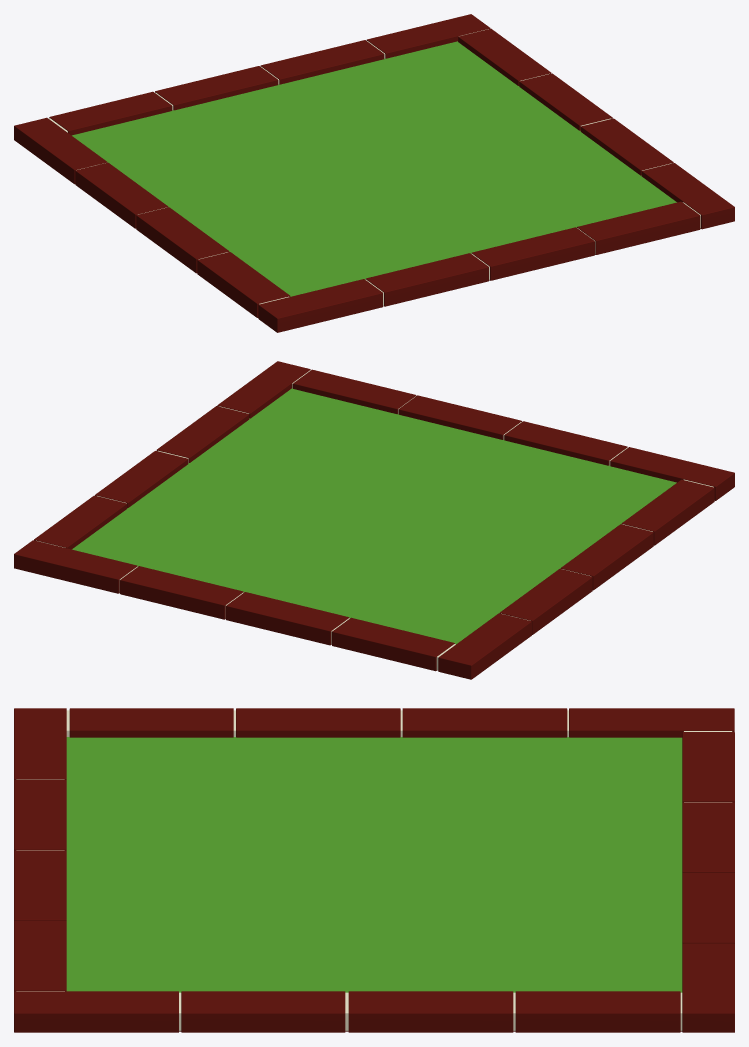
File: outdoor_grass_1274.obj
3 views of the same model, one above another, from view 1: azimuth 30°, elevation 25°; view 2: azimuth 150°, elevation 25°; view 3: azimuth 270°, elevation 25° (orthographic). The views are drawn at different scales.
Visible parts, largest first — view 1: outdoor_grass_1274_grassland, outdoor_grass_1274_brick, outdoor_grass_1274_cream; view 2: outdoor_grass_1274_grassland, outdoor_grass_1274_brick, outdoor_grass_1274_cream; view 3: outdoor_grass_1274_grassland, outdoor_grass_1274_brick, outdoor_grass_1274_cream.
Part boxes in pixels (bbox=[...]): outdoor_grass_1274_grassland: bbox=[72, 41, 676, 296]; outdoor_grass_1274_brick: bbox=[14, 14, 734, 332]; outdoor_grass_1274_cream: bbox=[49, 29, 700, 305]; outdoor_grass_1274_grassland: bbox=[72, 388, 676, 644]; outdoor_grass_1274_brick: bbox=[14, 361, 734, 679]; outdoor_grass_1274_cream: bbox=[36, 370, 713, 670]; outdoor_grass_1274_grassland: bbox=[66, 737, 682, 992]; outdoor_grass_1274_brick: bbox=[14, 708, 734, 1032]; outdoor_grass_1274_cream: bbox=[16, 710, 732, 1030].
Size of the model in its own units: 17.85 by 0.5433 by 17.82.
3 materials, 3 textured.
